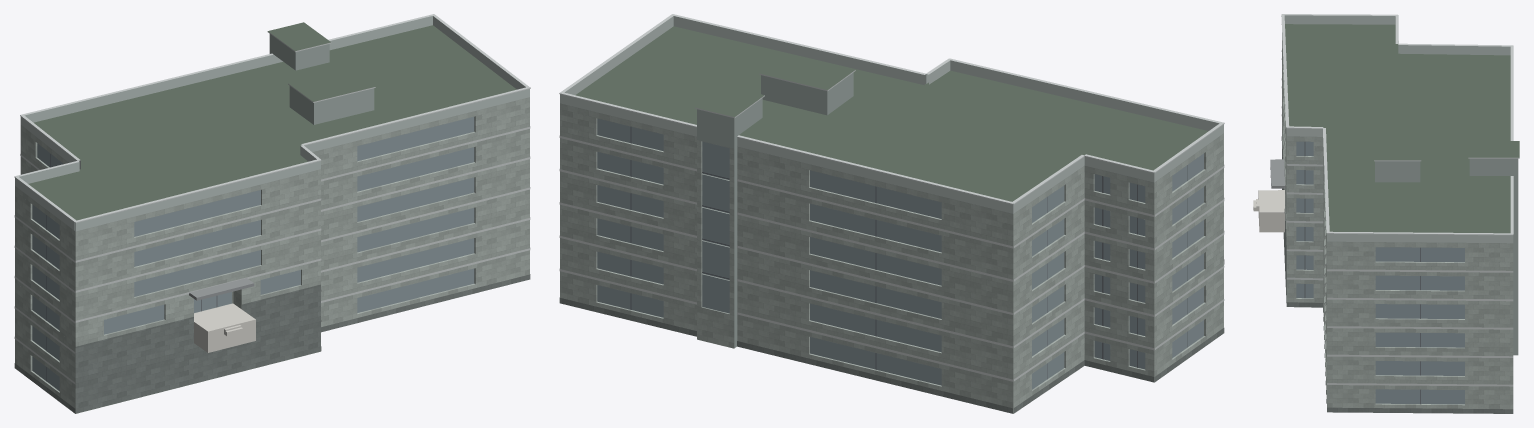
3 renders of one model, left to right at view 1: azimuth 30°, elevation 25°; view 2: azimuth 150°, elevation 25°; view 3: azimuth 270°, elevation 25°, orthographic. The views are drawn at different scales.
Visible parts, largest first — view 1: b311__wall, b311__roof, b311__glass, b311__base, b311__parapet, b311__trim, b311__wall2, b311__entranceStair, b311__canopy; view 2: b311__wall, b311__roof, b311__glass, b311__trim, b311__parapet, b311__wall2, b311__base, b311__frame; view 3: b311__roof, b311__wall, b311__glass, b311__trim, b311__parapet, b311__wall2, b311__base, b311__entranceStair, b311__canopy, b311__frame.
Boxes of the visible parts, x1,y1,x2,y2 form: b311__wall: (15, 97, 529, 413); b311__roof: (28, 22, 516, 413); b311__glass: (32, 117, 474, 390); b311__base: (14, 274, 530, 413); b311__parapet: (15, 16, 529, 231); b311__trim: (14, 14, 530, 384); b311__wall2: (269, 34, 374, 124); b311__entranceStair: (194, 303, 255, 352); b311__canopy: (189, 278, 254, 300); b311__wall: (560, 103, 1223, 413); b311__roof: (575, 26, 1208, 413); b311__glass: (597, 118, 1203, 389); b311__trim: (559, 14, 1224, 381); b311__parapet: (560, 16, 1223, 213); b311__wall2: (697, 72, 853, 348); b311__base: (559, 259, 1224, 413); b311__frame: (630, 127, 1187, 379); b311__roof: (1285, 24, 1519, 413); b311__wall: (1282, 33, 1513, 409); b311__glass: (1296, 141, 1464, 404); b311__trim: (1281, 14, 1519, 386); b311__parapet: (1284, 15, 1513, 243); b311__wall2: (1375, 158, 1518, 355); b311__base: (1281, 136, 1513, 413); b311__entranceStair: (1253, 190, 1284, 232); b311__canopy: (1270, 159, 1285, 188); b311__frame: (1304, 142, 1420, 404).
Bounding box in the file's own units: 59.9 × 25.13 × 30.58.
Materials: 11 (2 with a texture image).
